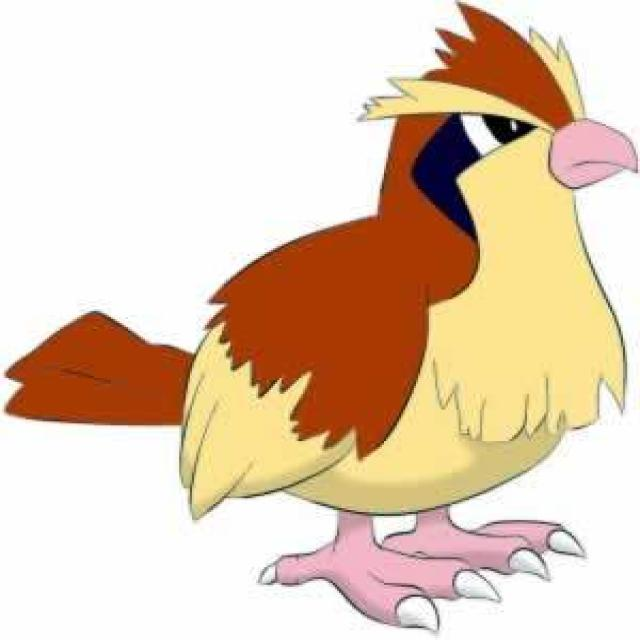Pidgey: (94, 24, 622, 607)
